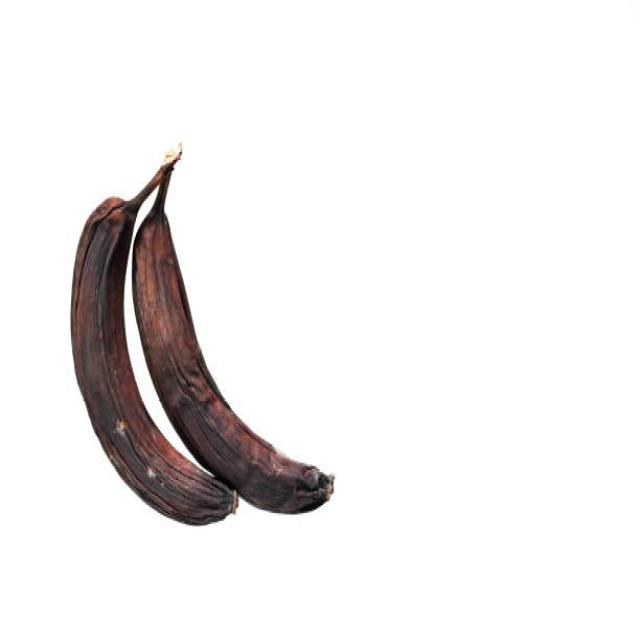Rotten: (134, 204, 335, 513)
